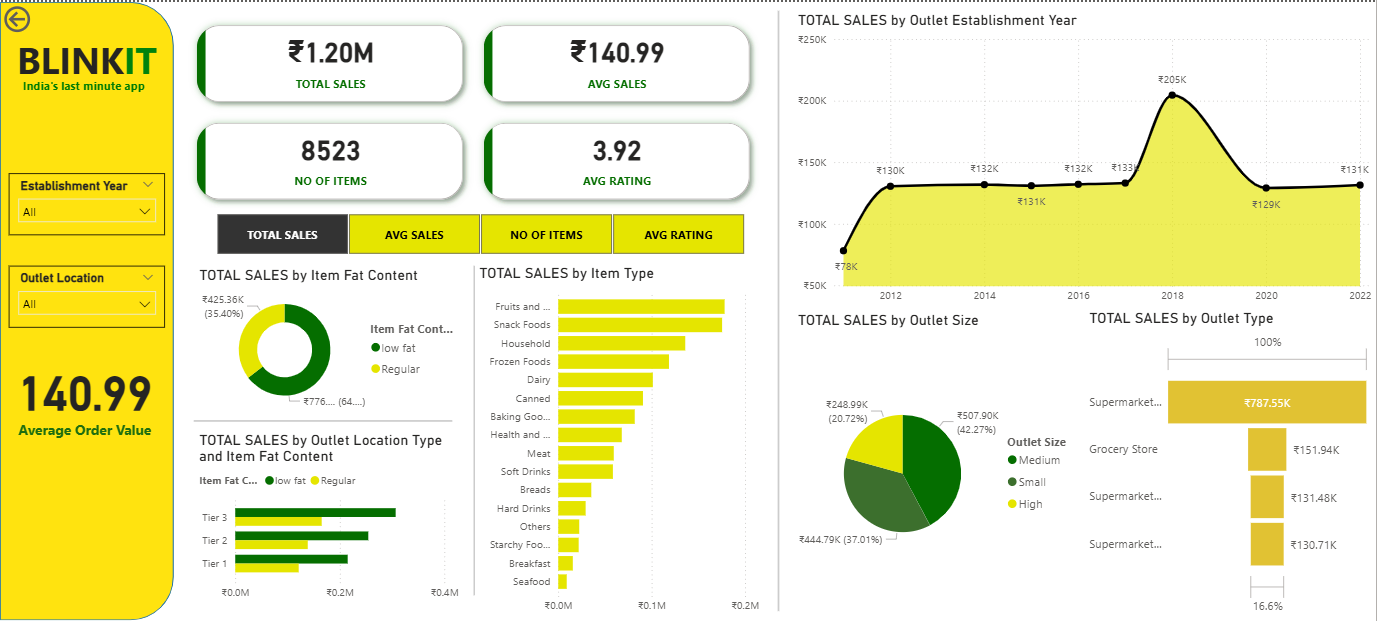

The dashboard page shown, as its layout file describes it:
{"tool":"powerbi","page":{"name":"Page 1","canvas":[1600,720],"ordinal":0},"visuals":[{"type":"shape","box":[0,0,202,719],"z":0},{"type":"textbox","box":[0.5,31.8,202,68.4],"z":1000},{"type":"cardVisual","fields":{"Data":["BlinkIT Grocery Data.TOTAL SALES","BlinkIT Grocery Data.AVG SALES","BlinkIT Grocery Data.NO OF ITEMS","BlinkIT Grocery Data.AVG RATING"]},"box":[212.6,10.3,677.1,236.6],"z":2000},{"type":"slicer","fields":{"Values":["Parameter.Parameter"]},"box":[226.4,240.1,662.1,60],"z":3000},{"type":"donutChart","fields":{"Y":["BlinkIT Grocery Data.TOTAL SALES"],"Category":["BlinkIT Grocery Data.Item Fat Content"]},"box":[226.4,307,308.8,176.7],"z":4000},{"type":"shape","box":[225.9,459.7,300.6,55.7],"z":5000},{"type":"shape","box":[534.4,307,33.4,383.3],"z":6000},{"type":"clusteredBarChart","fields":{"Y":["BlinkIT Grocery Data.TOTAL SALES"],"Category":["BlinkIT Grocery Data.Outlet Location Type"],"Series":["BlinkIT Grocery Data.Item Fat Content"]},"box":[226.4,499.2,312.2,205.8],"z":7000},{"type":"barChart","fields":{"Y":["BlinkIT Grocery Data.TOTAL SALES"],"Category":["BlinkIT Grocery Data.Item Type"]},"box":[552.3,305.3,336.2,415.1],"z":8000},{"type":"shape","box":[888.5,10.3,34.3,698.1],"z":9000},{"type":"lineChart","fields":{"Y":["BlinkIT Grocery Data.TOTAL SALES"],"Category":["BlinkIT Grocery Data.Outlet Establishment Year"]},"box":[922.6,10.2,676.7,349.5],"z":10000},{"type":"pieChart","fields":{"Y":["BlinkIT Grocery Data.TOTAL SALES"],"Category":["BlinkIT Grocery Data.Outlet Size"]},"box":[922.6,359.7,339.4,359.7],"z":11000},{"type":"slicer","fields":{"Values":["BlinkIT Grocery Data.Outlet Establishment Year"]},"box":[9.8,199,181.8,72],"z":12000},{"type":"slicer","fields":{"Values":["BlinkIT Grocery Data.Outlet Location Type"]},"box":[9.8,307,181.8,72],"z":13000},{"type":"textbox","box":[22.3,82.7,181.3,49.3],"z":14000},{"type":"funnel","fields":{"Y":["BlinkIT Grocery Data.TOTAL SALES"],"Category":["BlinkIT Grocery Data.Outlet Type"]},"box":[1262,357.7,337.3,361.7],"z":15000},{"type":"card","fields":{"Values":["BlinkIT Grocery Data.Average Order Value"]},"box":[15.1,403.2,168.5,113.6],"z":16000},{"type":"actionButton","box":[0,0,100,40],"z":17000}]}

Visuals, with their boxes in screenshot pixels (x1, y1, x2, y2), scaled from the page's 1600x720 canvas onto the 1379x621 screenshot:
shape: 0 0 174 620
textbox: 0 27 175 86
cardVisual - BlinkIT Grocery Data.TOTAL SALES x BlinkIT Grocery Data.AVG SALES: 183 9 767 213
slicer - Parameter.Parameter: 195 207 766 259
donutChart - BlinkIT Grocery Data.TOTAL SALES x BlinkIT Grocery Data.Item Fat Content: 195 265 461 417
shape: 195 396 454 445
shape: 461 265 489 595
clusteredBarChart - BlinkIT Grocery Data.TOTAL SALES x BlinkIT Grocery Data.Outlet Location Type: 195 431 464 608
barChart - BlinkIT Grocery Data.TOTAL SALES x BlinkIT Grocery Data.Item Type: 476 263 766 620
shape: 766 9 795 611
lineChart - BlinkIT Grocery Data.TOTAL SALES x BlinkIT Grocery Data.Outlet Establishment Year: 795 9 1378 310
pieChart - BlinkIT Grocery Data.TOTAL SALES x BlinkIT Grocery Data.Outlet Size: 795 310 1088 620
slicer - BlinkIT Grocery Data.Outlet Establishment Year: 8 172 165 234
slicer - BlinkIT Grocery Data.Outlet Location Type: 8 265 165 327
textbox: 19 71 175 114
funnel - BlinkIT Grocery Data.TOTAL SALES x BlinkIT Grocery Data.Outlet Type: 1088 309 1378 620
card - BlinkIT Grocery Data.Average Order Value: 13 348 158 446
actionButton: 0 0 86 34
